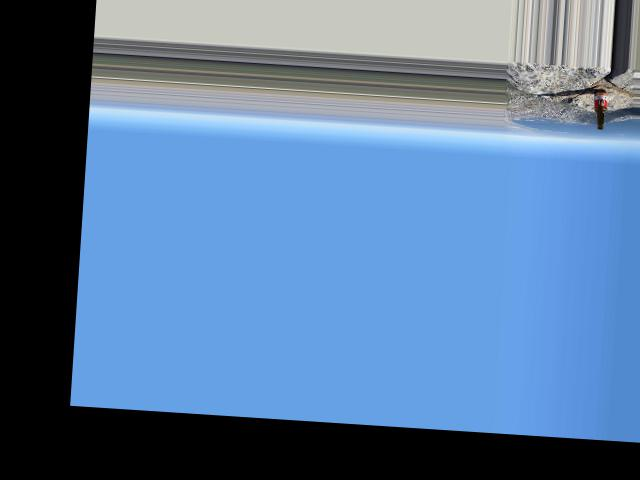beer: (592, 89, 607, 129)
